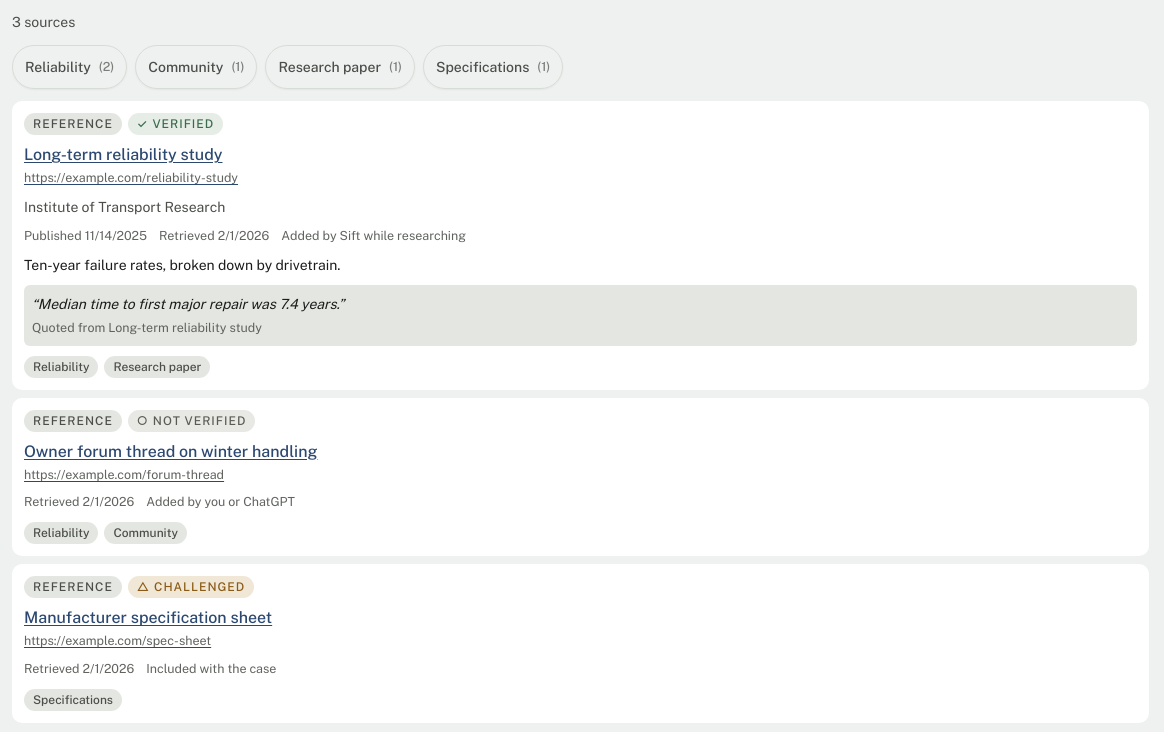
Scenario: ReferenceLibrary: tag facets and filtering › narrows the list to the sources carrying a selected tag, and updates the count
Check: the text with test id "reference-library-count" reads "3 sources", box [12,14,75,30]
Click the button with test id "reference-library-tag-Specifications": x=493, y=67 [423,45,563,89]
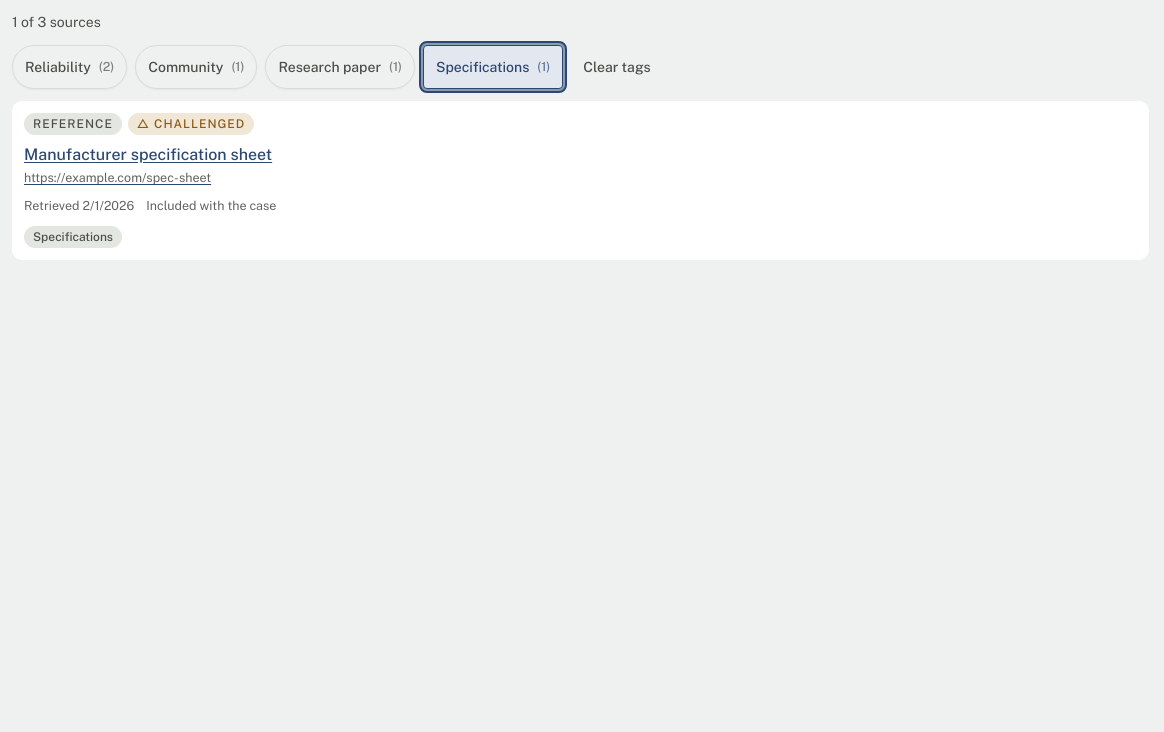
Check: the list item with test id "reference-library-entry-src-1" is gone
Check: the list item with test id "reference-library-entry-src-2" is gone
Check: the text with test id "reference-library-count" reads "1 of 3 sources", box [12,14,101,30]
